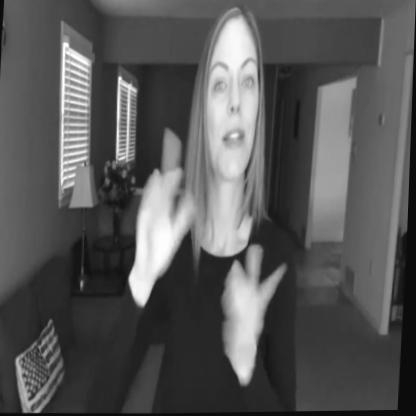NiceToMeetYou: (91, 0, 322, 415)
